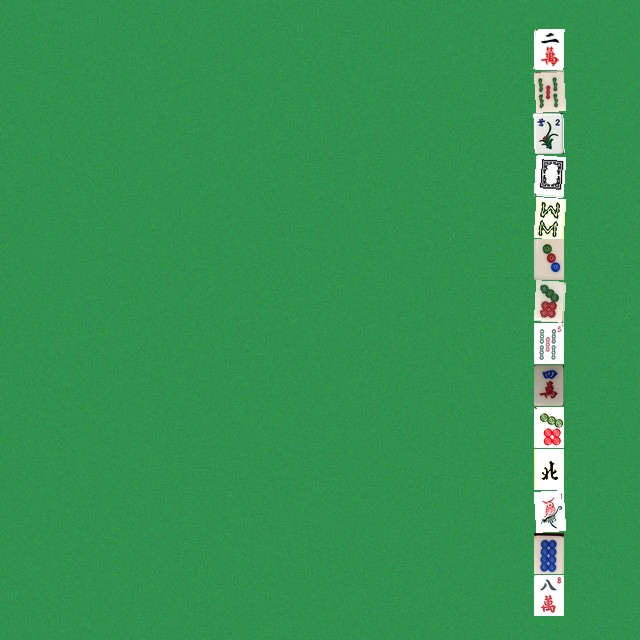tile: (533, 28, 563, 69), (533, 70, 563, 111), (533, 112, 563, 153), (533, 154, 563, 195), (533, 196, 563, 237), (533, 238, 563, 279), (533, 280, 563, 321), (533, 322, 563, 363), (533, 364, 563, 405), (533, 406, 563, 447), (533, 448, 563, 489), (533, 490, 563, 531), (533, 532, 563, 573), (533, 574, 563, 615)
